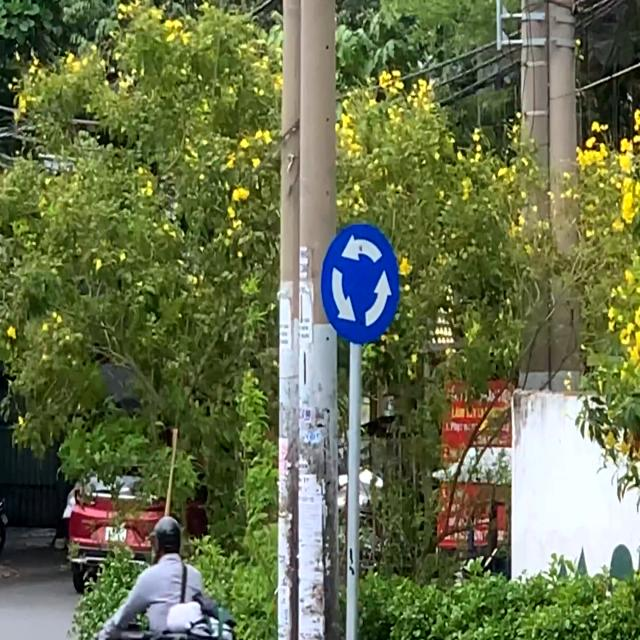R.303: (320, 223, 408, 346)
